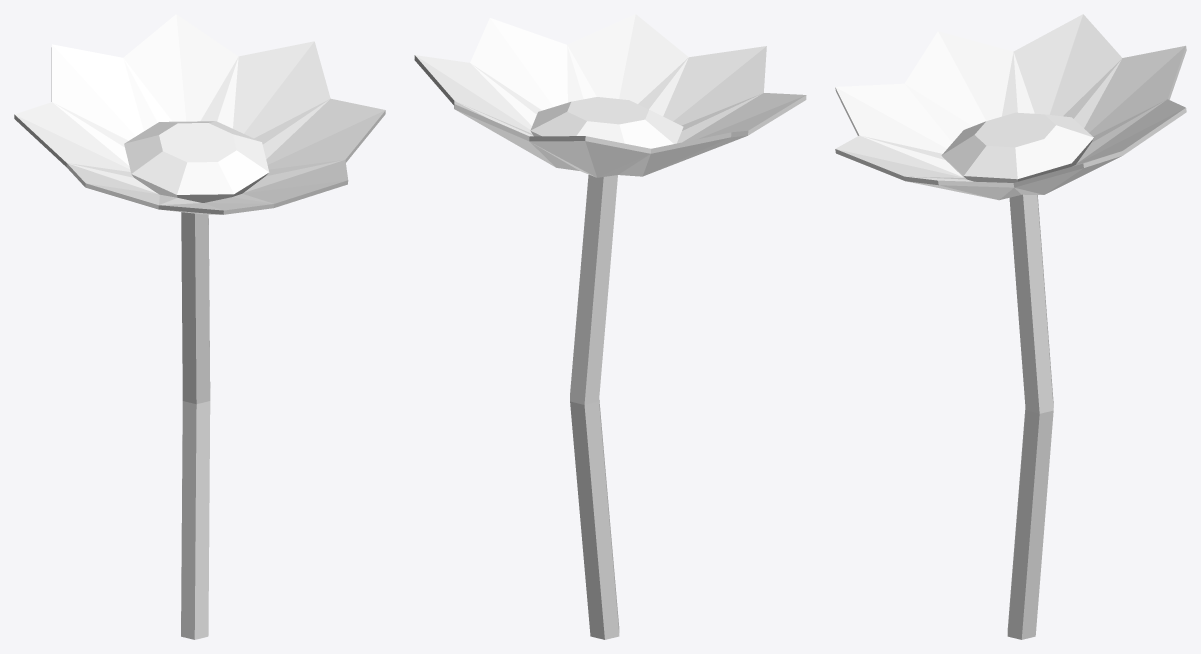
Rendered from Env_Flowers_03.glb.
3 renders of one model, left to right at view 1: azimuth 30°, elevation 25°; view 2: azimuth 150°, elevation 25°; view 3: azimuth 270°, elevation 25°, orthographic. The views are drawn at different scales.
Visible parts, largest first — view 1: Env_Flowers_03; view 2: Env_Flowers_03; view 3: Env_Flowers_03.
Boxes of the visible parts, left/top/right/bottom form: Env_Flowers_03: left=14, top=14, right=385, bottom=639; Env_Flowers_03: left=414, top=14, right=806, bottom=639; Env_Flowers_03: left=835, top=14, right=1186, bottom=639.
Size of the model in its own units: 0.1726 by 0.2996 by 0.1715.
Materials: 1 (1 with a texture image).
